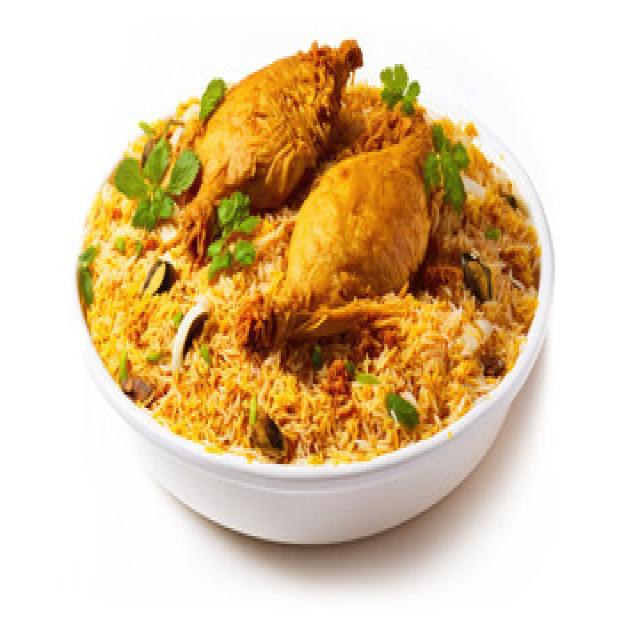BIRIYANI: (78, 35, 540, 464)
